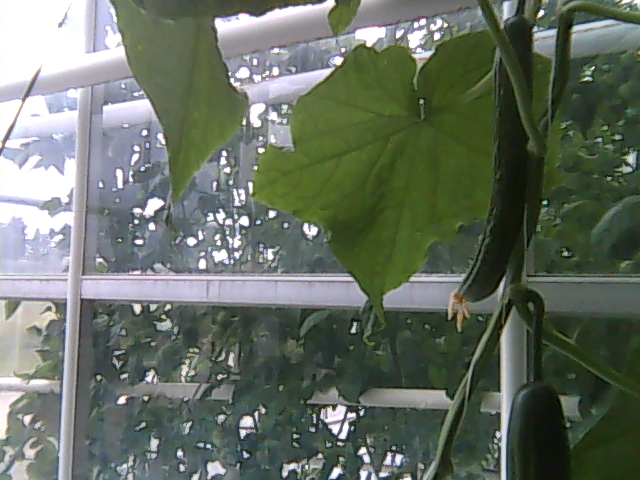concombre: (446, 13, 536, 328), (503, 375, 576, 480)
